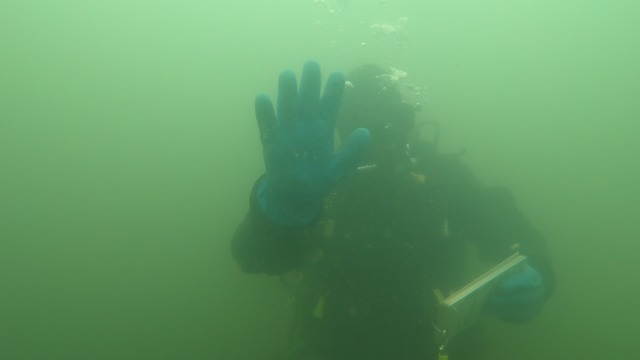Diver: (195, 21, 588, 351)
Hand: (237, 56, 419, 241), (472, 239, 552, 322)
